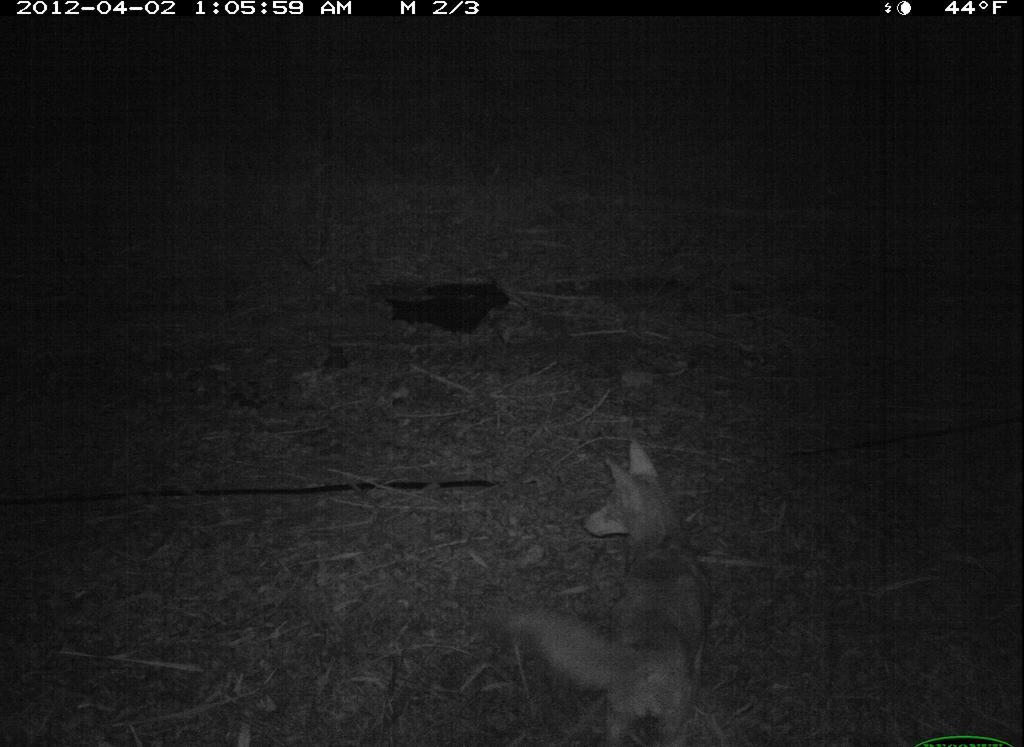coyote: (511, 431, 724, 747)
